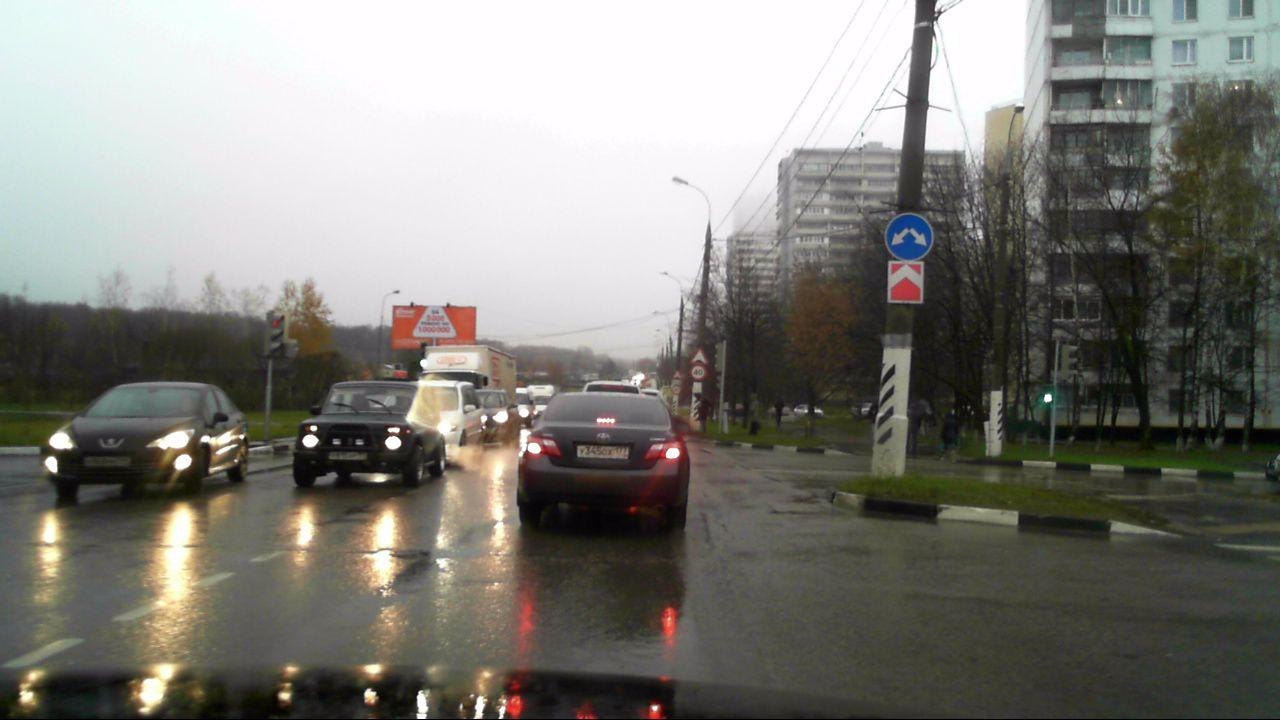off traffic light: (1058, 343, 1078, 384)
road_sign: (882, 211, 936, 260), (886, 259, 926, 306)
traffic light: (265, 311, 287, 358)
